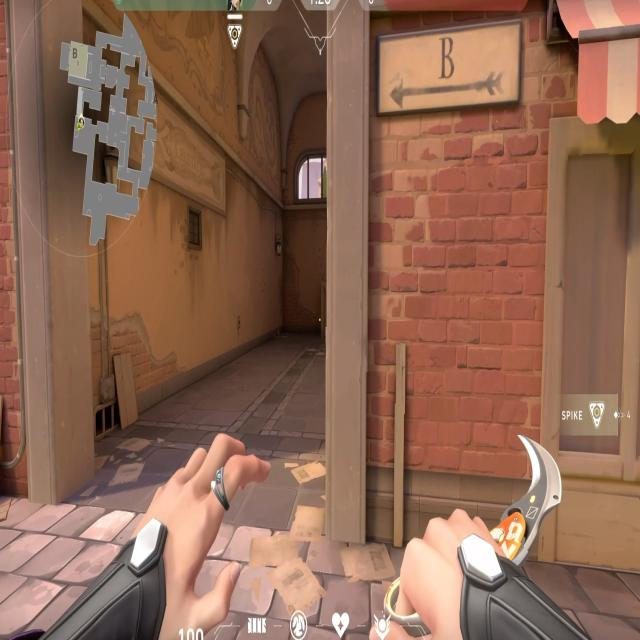Throwables: (295, 145, 328, 206)
